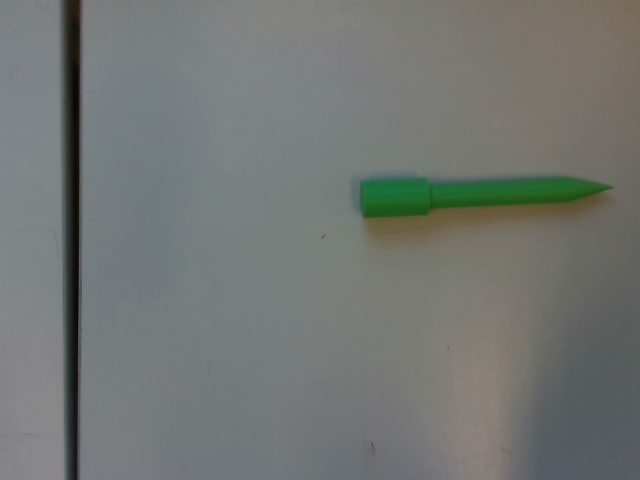Probe: (353, 168, 622, 227)
